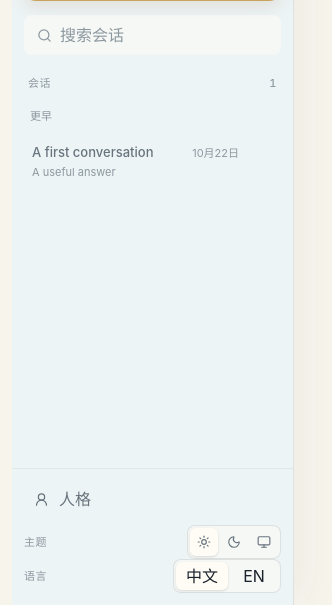
Sidebar › opens persona management from the sidebar
Click the button "人格" at (152, 499), box left=24, top=481, right=281, bottom=517
(page scrolled)
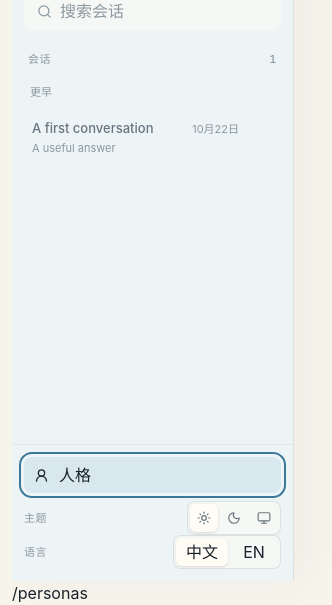
Now the text with test id "location" reads "/personas", box left=12, top=583, right=88, bottom=603
